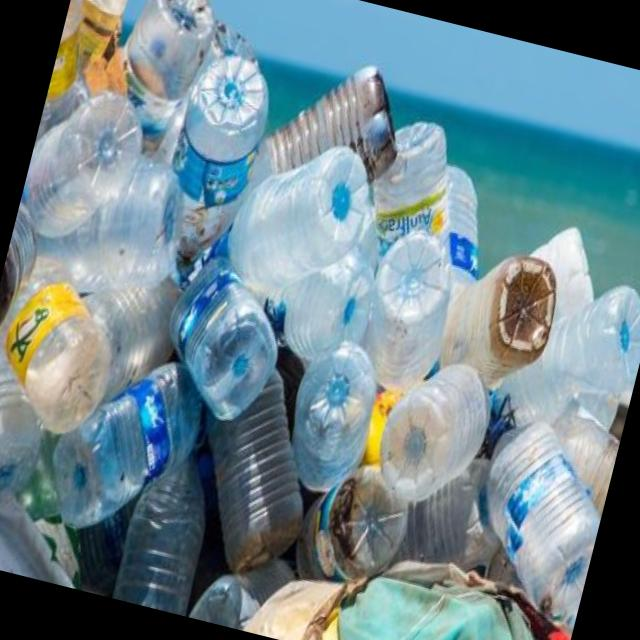general: (146, 35, 283, 272)
